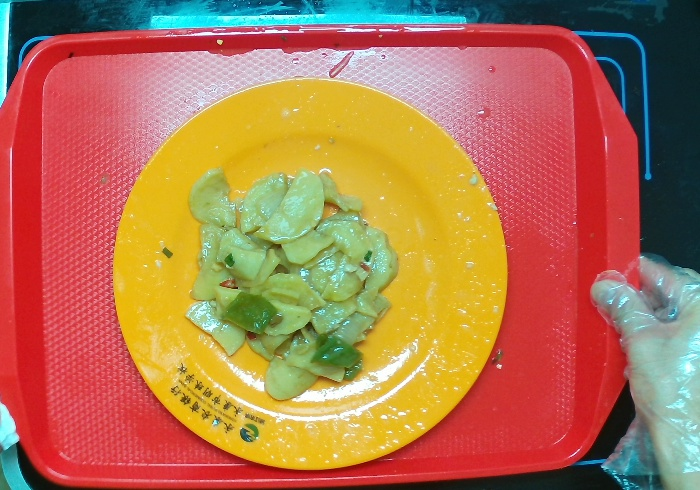YKMZ-Ju_Se_Mian_Pan: (112, 74, 512, 474)
